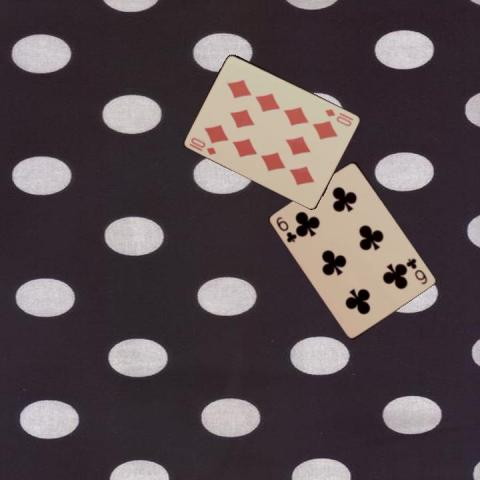10d: (322, 106, 355, 128), (188, 135, 218, 156)
6c: (404, 255, 430, 286), (273, 213, 299, 244)
